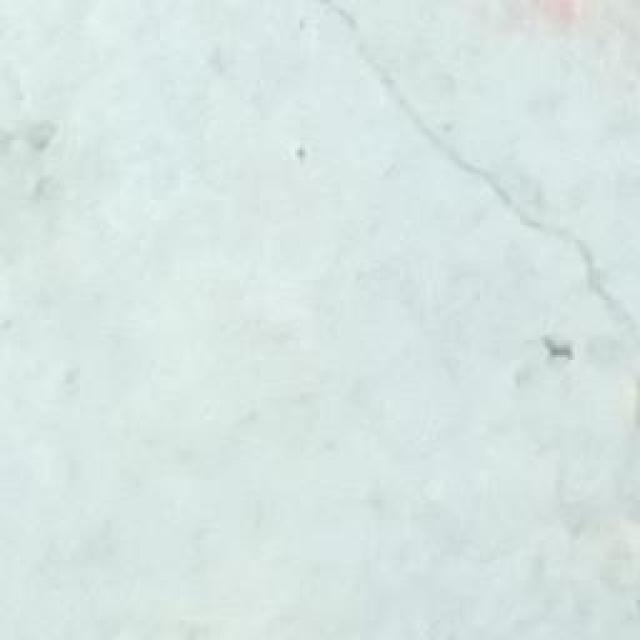Diagonal: (315, 0, 640, 330)
